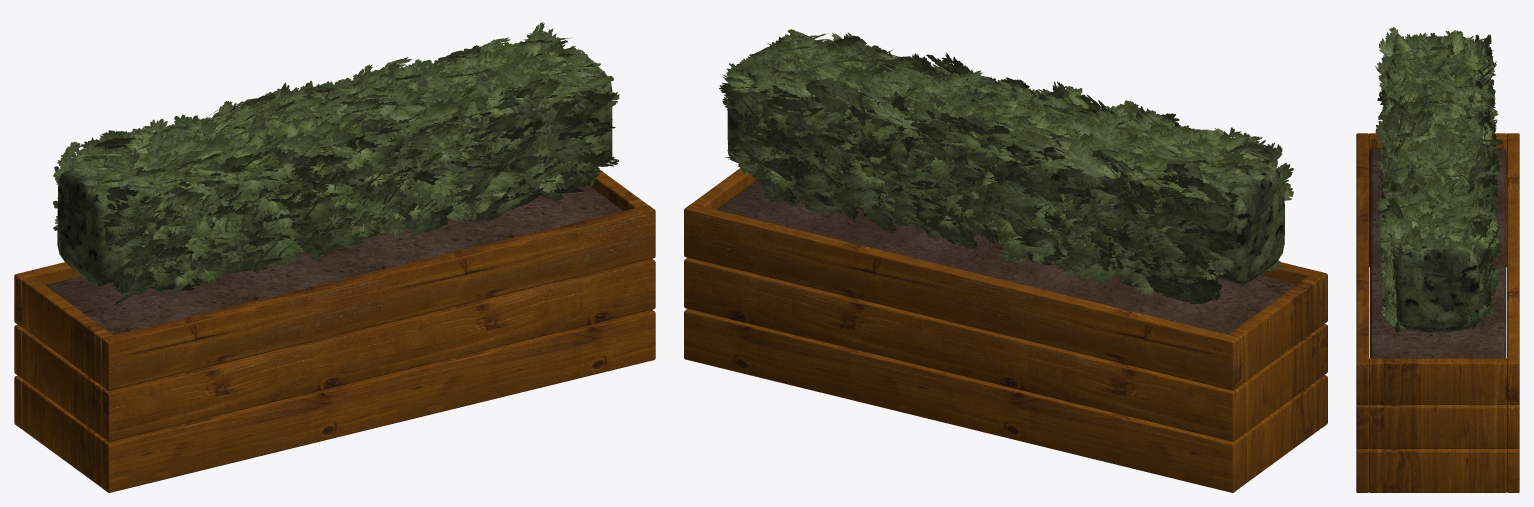
Rendered from jardinera_madera_150.glb.
The picture shows the model from 3 angles, left to right: view 1: azimuth 30°, elevation 25°; view 2: azimuth 150°, elevation 25°; view 3: azimuth 270°, elevation 25°; orthographic projection. The views are drawn at different scales.
Parts seen in each view (by area): view 1: jardinera_madera_150; view 2: jardinera_madera_150; view 3: jardinera_madera_150.
Boxes of the visible parts, x1,y1,x2,y2 form: jardinera_madera_150: (14,22,655,492); jardinera_madera_150: (684,29,1327,492); jardinera_madera_150: (1356,27,1519,492).
Size of the model in its own units: 1.5 by 0.8001 by 0.449.
4 materials, 4 textured.
